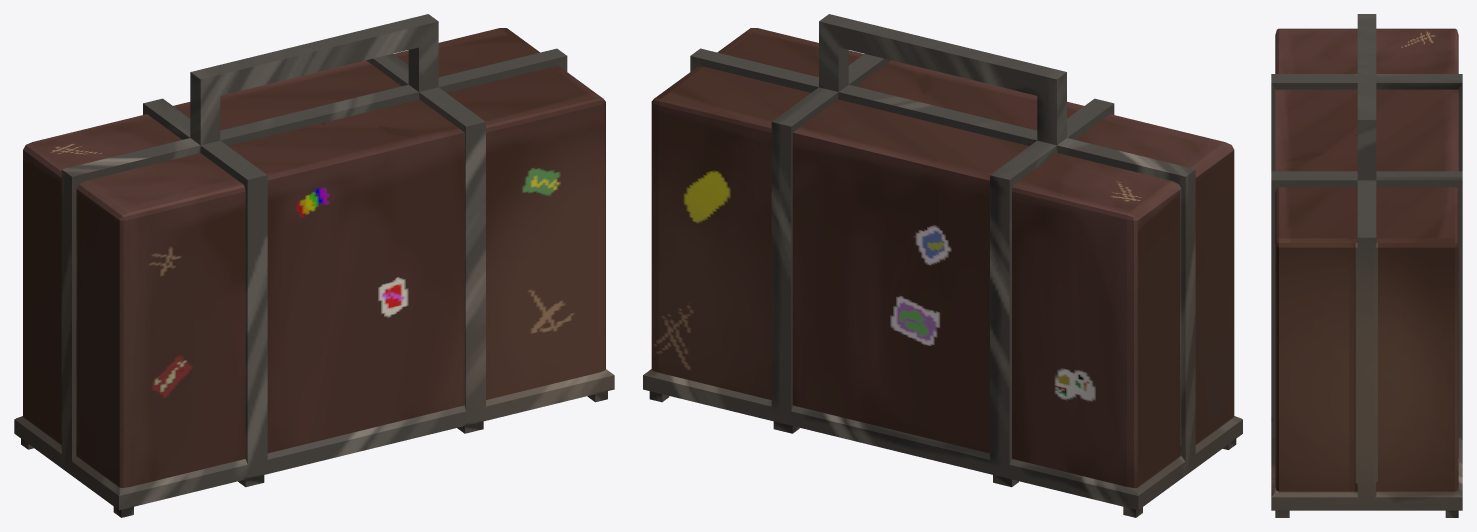
File: walizka.fbx
The picture shows the model from 3 angles, left to right: view 1: azimuth 30°, elevation 25°; view 2: azimuth 150°, elevation 25°; view 3: azimuth 270°, elevation 25°; orthographic projection. The views are drawn at different scales.
Parts seen in each view (by area): view 1: Cube; view 2: Cube; view 3: Cube.
Part boxes in pixels (box(x1,y1,x2,y2)): Cube: box(14, 14, 614, 517); Cube: box(643, 14, 1242, 517); Cube: box(1271, 14, 1462, 517).
Bounding box in the file's own units: 71.28 × 51.59 × 26.09.
1 material, 1 textured.
